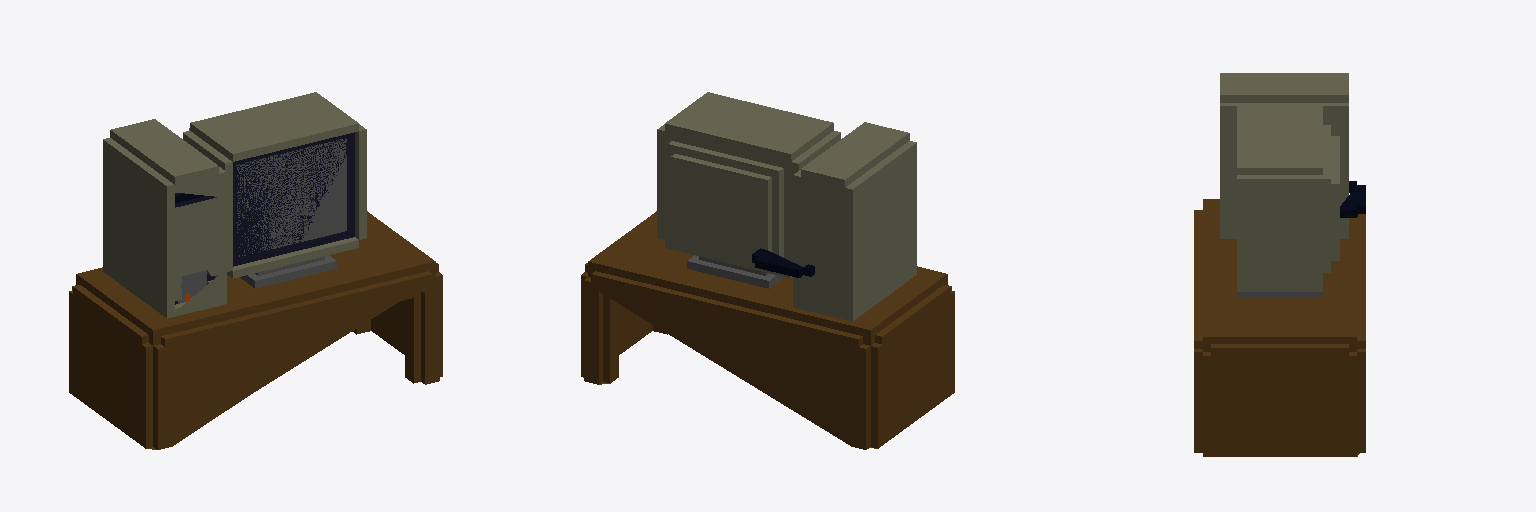
Rendered from PcANdTisch2.obj.
The picture shows the model from 3 angles: view 1: azimuth 30°, elevation 25°; view 2: azimuth 150°, elevation 25°; view 3: azimuth 270°, elevation 25°; orthographic projection.
Parts seen in each view (by area): view 1: PcTisch2; view 2: PcTisch2; view 3: PcTisch2.
Part boxes in pixels (left/top/right/bottom): PcTisch2: left=69, top=92, right=442, bottom=449; PcTisch2: left=581, top=92, right=954, bottom=449; PcTisch2: left=1194, top=73, right=1365, bottom=456.
Size of the model in its own units: 2.5 by 2.06 by 1.25.